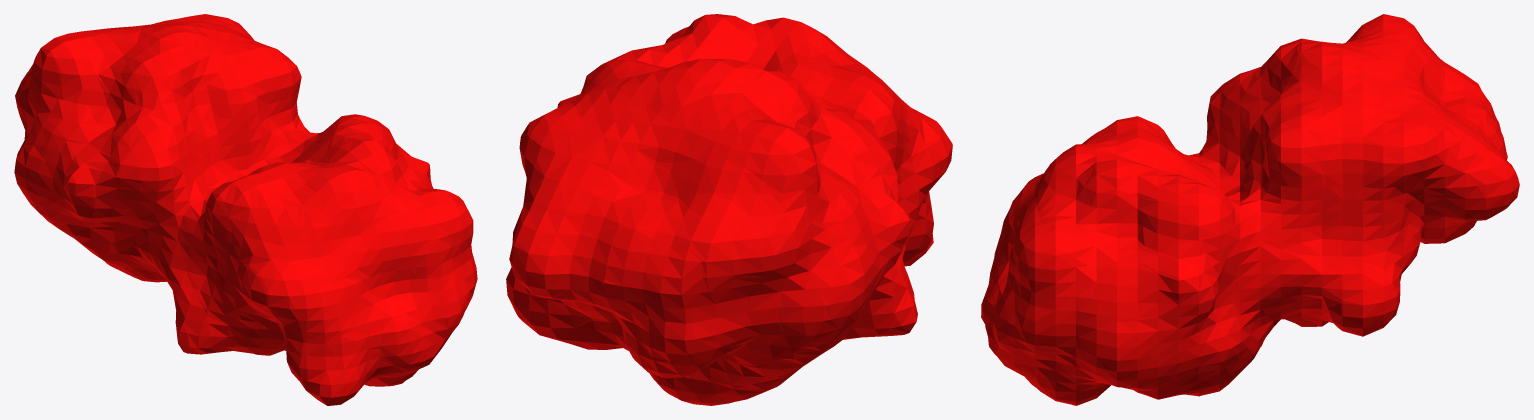
Rendered from rlmJ_coarse.dae.
3 views of the same model, side by side, from view 1: azimuth 30°, elevation 25°; view 2: azimuth 150°, elevation 25°; view 3: azimuth 270°, elevation 25° (orthographic). The views are drawn at different scales.
Visible parts, largest first — view 1: rlmJ; view 2: rlmJ; view 3: rlmJ.
Boxes of the visible parts, x1,y1,x2,y2 form: rlmJ: (14,14,477,405); rlmJ: (506,14,952,405); rlmJ: (981,14,1519,405).
Size of the model in its own units: 66.54 by 56.93 by 89.52.
